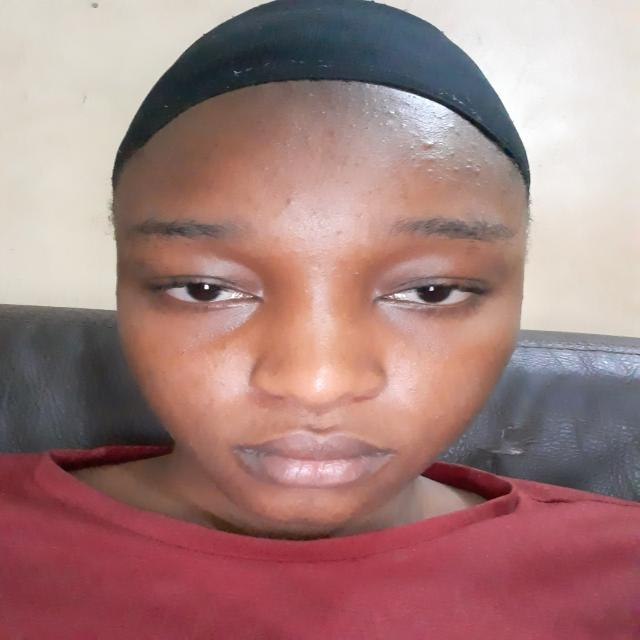Acne: (464, 162, 484, 174), (326, 127, 340, 142), (280, 196, 296, 208), (442, 145, 458, 157), (424, 139, 437, 152), (352, 211, 365, 223), (302, 134, 315, 143), (175, 349, 186, 359), (445, 122, 457, 131), (408, 154, 421, 162), (419, 156, 436, 162), (332, 228, 342, 238), (398, 122, 409, 131), (463, 156, 476, 163), (403, 100, 412, 110), (378, 135, 388, 143), (386, 109, 397, 116), (258, 166, 269, 173), (382, 120, 397, 125), (306, 91, 315, 98), (348, 122, 358, 128), (352, 270, 361, 276), (452, 166, 460, 172), (409, 144, 415, 151)
